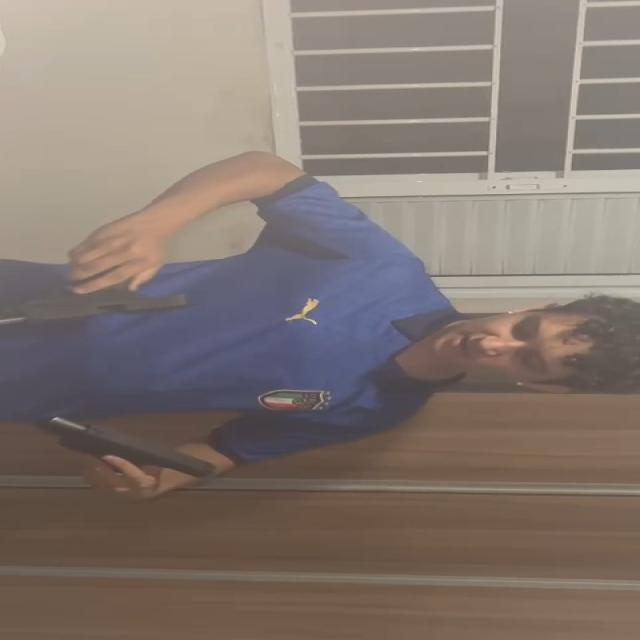gun: (36, 414, 214, 477), (0, 284, 192, 330)
